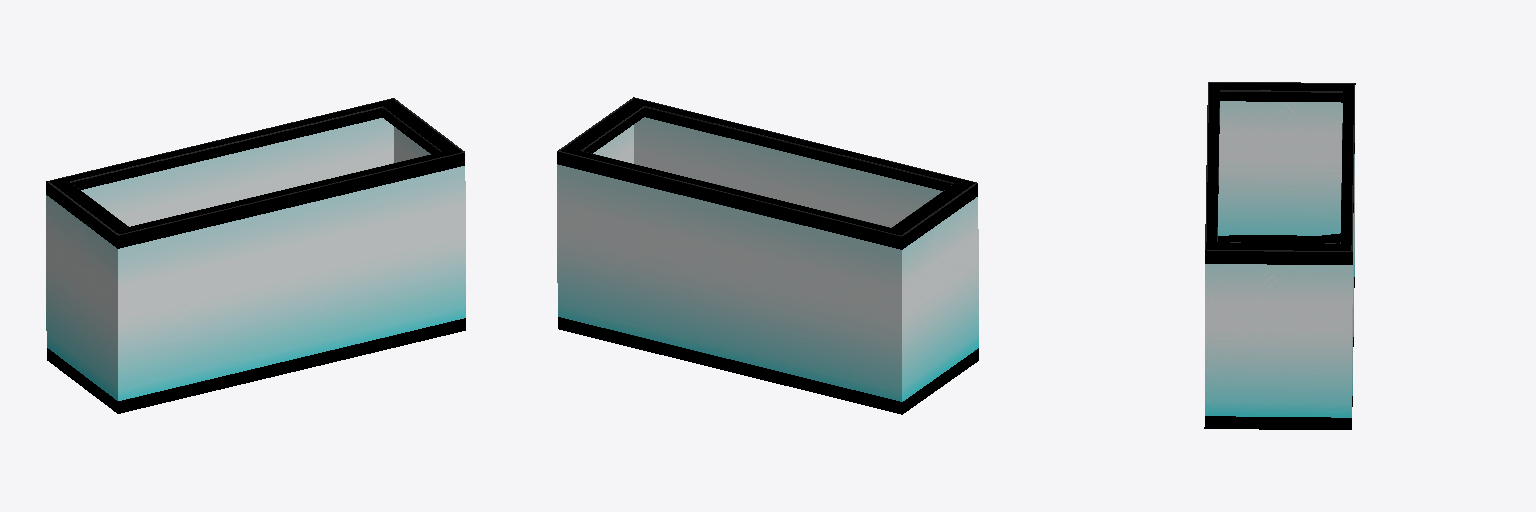
The picture shows the model from 3 angles: view 1: azimuth 30°, elevation 25°; view 2: azimuth 150°, elevation 25°; view 3: azimuth 270°, elevation 25°; orthographic projection.
Visible parts, largest first — view 1: polySurface1; view 2: polySurface1; view 3: polySurface1.
Part boxes in pixels (bbox=[...]): polySurface1: bbox=[46, 98, 465, 413]; polySurface1: bbox=[557, 97, 978, 414]; polySurface1: bbox=[1204, 82, 1355, 429].
Size of the model in its own units: 3.46 by 1.69 by 1.3.
2 materials, 2 textured.